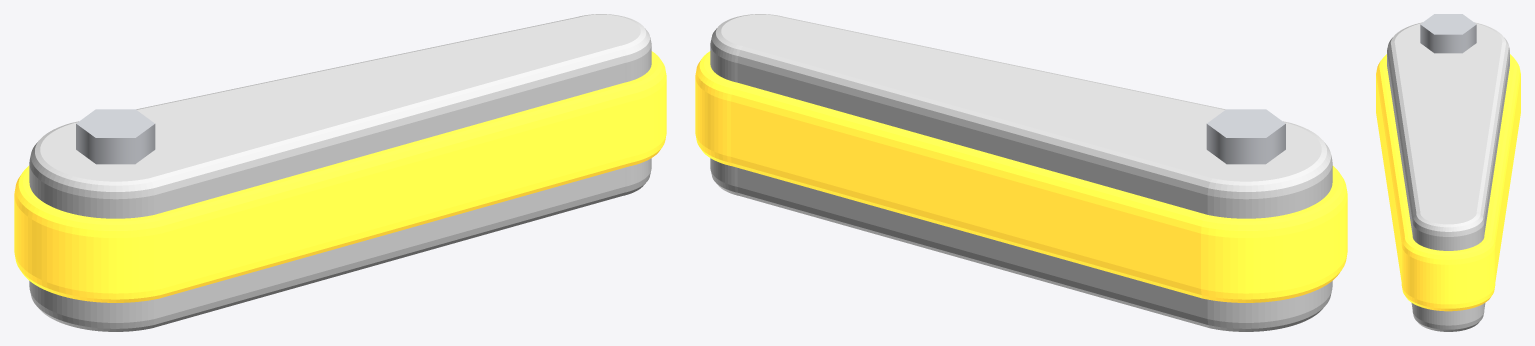
File: pp_flipper.glb
The picture shows the model from 3 angles, left to right: view 1: azimuth 30°, elevation 25°; view 2: azimuth 150°, elevation 25°; view 3: azimuth 270°, elevation 25°; orthographic projection. The views are drawn at different scales.
Parts seen in each view (by area): view 1: Bat, Rubber, Pivot; view 2: Bat, Rubber, Pivot; view 3: Bat, Rubber, Pivot.
Part boxes in pixels (left/top/right/bottom): Bat: left=29, top=14, right=651, bottom=331; Rubber: left=14, top=51, right=666, bottom=302; Pivot: left=76, top=109, right=155, bottom=164; Bat: left=710, top=14, right=1332, bottom=331; Rubber: left=695, top=51, right=1347, bottom=302; Pivot: left=1206, top=109, right=1285, bottom=164; Bat: left=1387, top=22, right=1509, bottom=331; Rubber: left=1376, top=54, right=1520, bottom=311; Pivot: left=1420, top=14, right=1476, bottom=53.
Size of the model in its own units: 0.1012 by 0.027 by 0.0282.
